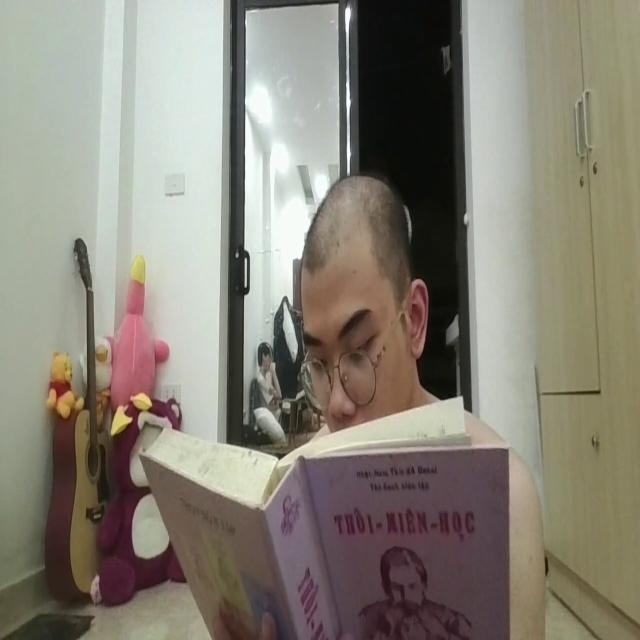book: (131, 387, 515, 640)
student: (288, 174, 451, 443)
